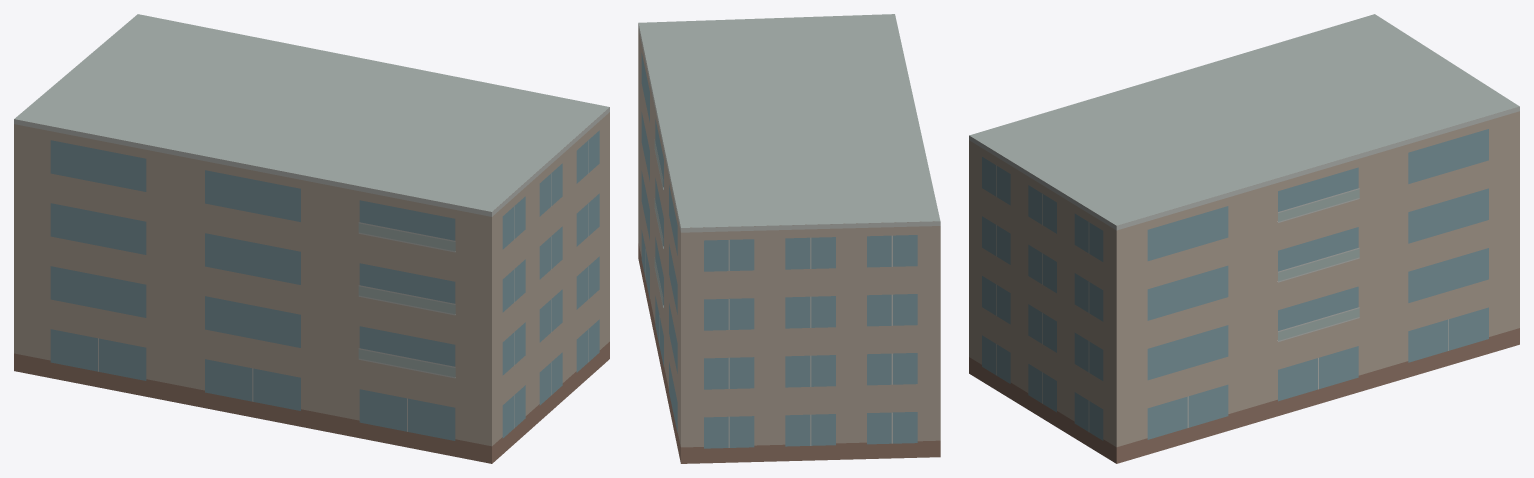
Rendered from survey-upis-33046452.glb.
3 renders of one model, left to right at view 1: azimuth 30°, elevation 25°; view 2: azimuth 150°, elevation 25°; view 3: azimuth 270°, elevation 25°, orthographic. The views are drawn at different scales.
Visible parts, largest first — view 1: survey-upis-33046452.tmp; view 2: survey-upis-33046452.tmp; view 3: survey-upis-33046452.tmp.
Boxes of the visible parts, <box> form: survey-upis-33046452.tmp: <box>14,14,609,463</box>; survey-upis-33046452.tmp: <box>638,14,940,463</box>; survey-upis-33046452.tmp: <box>969,14,1519,463</box>.
Size of the model in its own units: 23.47 by 12.3 by 25.79.
